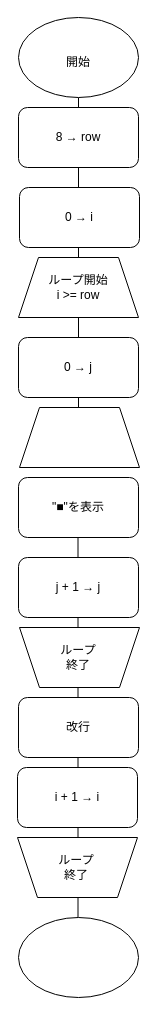
This 157x1015 diagram has some shape labels left out. Here are the shapes that lost their labels. From the top down, the centre of each, then its label:
At (x=79, y=437): "ループ開始 j >= i+1".
At (x=78, y=957): "終了".
